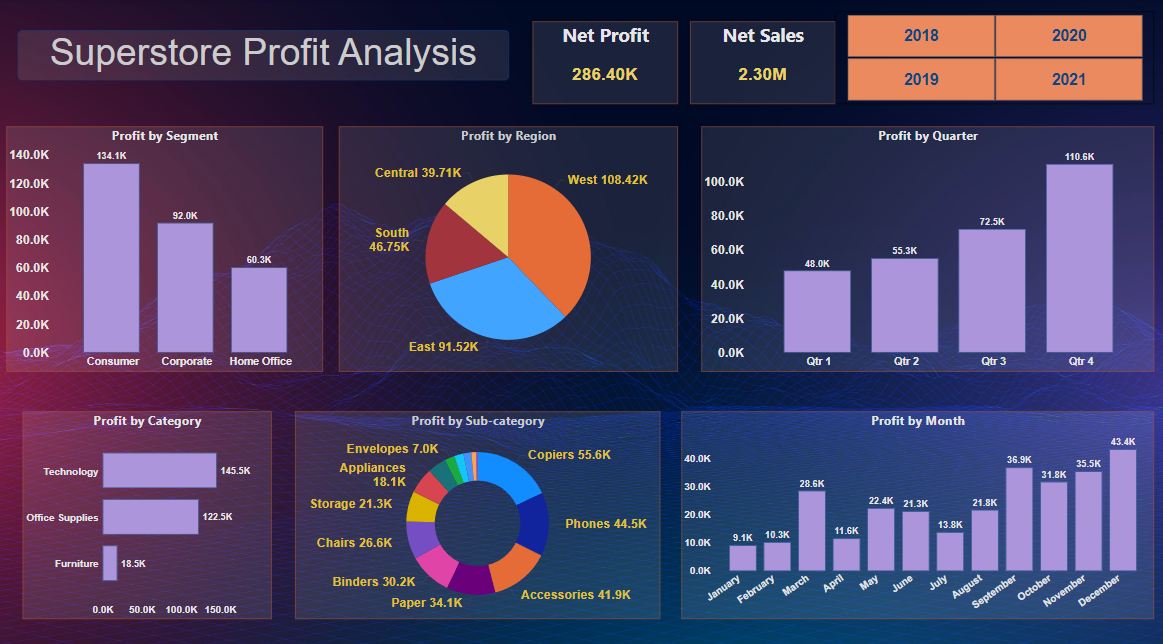

The page's visual inventory and layout, read from the dashboard file:
{"tool":"powerbi","page":{"name":"Page 1","canvas":[2500,1400],"ordinal":0},"visuals":[{"type":"cardVisual","title":"Net Profit","fields":{"Data":["Sum(Orders.profit)"]},"box":[1144.4,48.2,310.9,176.9],"z":0},{"type":"columnChart","title":"Profit by Segment","fields":{"Category":["Orders.segment"],"Y":["Sum(Orders.profit)"]},"box":[16.6,272.3,678.1,525.3],"z":1000},{"type":"donutChart","title":"Profit by Sub-category","fields":{"Category":["Orders.sub_category"],"Y":["Sum(Orders.profit)"]},"box":[634.1,884.4,782.6,444.9],"z":2000},{"type":"barChart","title":"Profit by Category","fields":{"Y":["Sum(Orders.profit)"],"Category":["Orders.category"]},"box":[49.9,884.4,533.3,444.9],"z":3000},{"type":"pieChart","title":"Profit by Region","fields":{"Y":["Sum(Orders.profit)"],"Category":["Orders.region"]},"box":[729.5,272.3,726.3,525.3],"z":4000},{"type":"cardVisual","title":"Net Sales","fields":{"Data":["Sum(Orders.sales)"]},"box":[1482.1,48.2,310.9,176.9],"z":5000},{"type":"columnChart","title":"Profit by Quarter","fields":{"Y":["Sum(Orders.profit)"],"Category":["Orders.order_date.Variation.Date Hierarchy.Quarter"]},"box":[1506.2,273.4,970.2,525.3],"z":6000},{"type":"columnChart","title":"Profit by Month","fields":{"Y":["Sum(Orders.profit)"],"Category":["Orders.order_date.Variation.Date Hierarchy.Month"]},"box":[1462.3,884.4,1013.1,444.9],"z":7000},{"type":"slicer","fields":{"Values":["Orders.order_date.Variation.Date Hierarchy.Year"]},"box":[1793,26.8,683.4,198.3],"z":8000},{"type":"textbox","title":"Superstore Profit Analysis","box":[40.2,67,1053.3,107.2],"z":8001}]}

Visuals, with their boxes in screenshot pixels (x1, y1, x2, y2), scaled from the page's 2500x1400 canvas onto the 1163x644 screenshot:
"Net Profit" cardVisual: bbox=(532, 22, 677, 104)
"Profit by Segment" columnChart: bbox=(8, 125, 323, 367)
"Profit by Sub-category" donutChart: bbox=(295, 407, 659, 611)
"Profit by Category" barChart: bbox=(23, 407, 271, 611)
"Profit by Region" pieChart: bbox=(339, 125, 677, 367)
"Net Sales" cardVisual: bbox=(689, 22, 834, 104)
"Profit by Quarter" columnChart: bbox=(701, 126, 1152, 367)
"Profit by Month" columnChart: bbox=(680, 407, 1152, 611)
slicer - Orders.order_date.Variation.Date Hierarchy.Year: bbox=(834, 12, 1152, 104)
"Superstore Profit Analysis" textbox: bbox=(19, 31, 509, 80)
